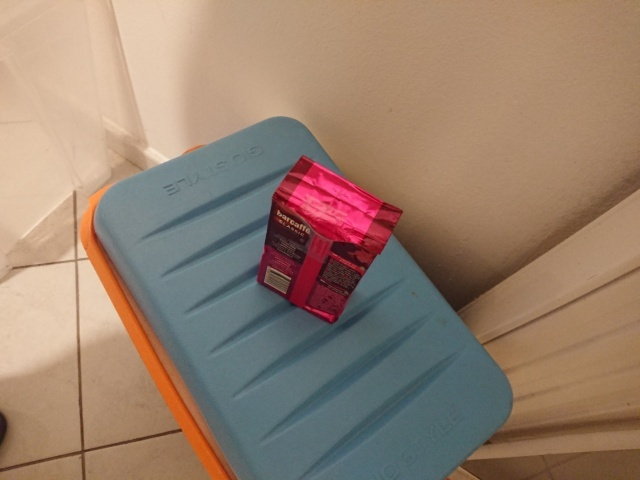Barcaffe Classic Original 225g: (253, 152, 406, 327)
